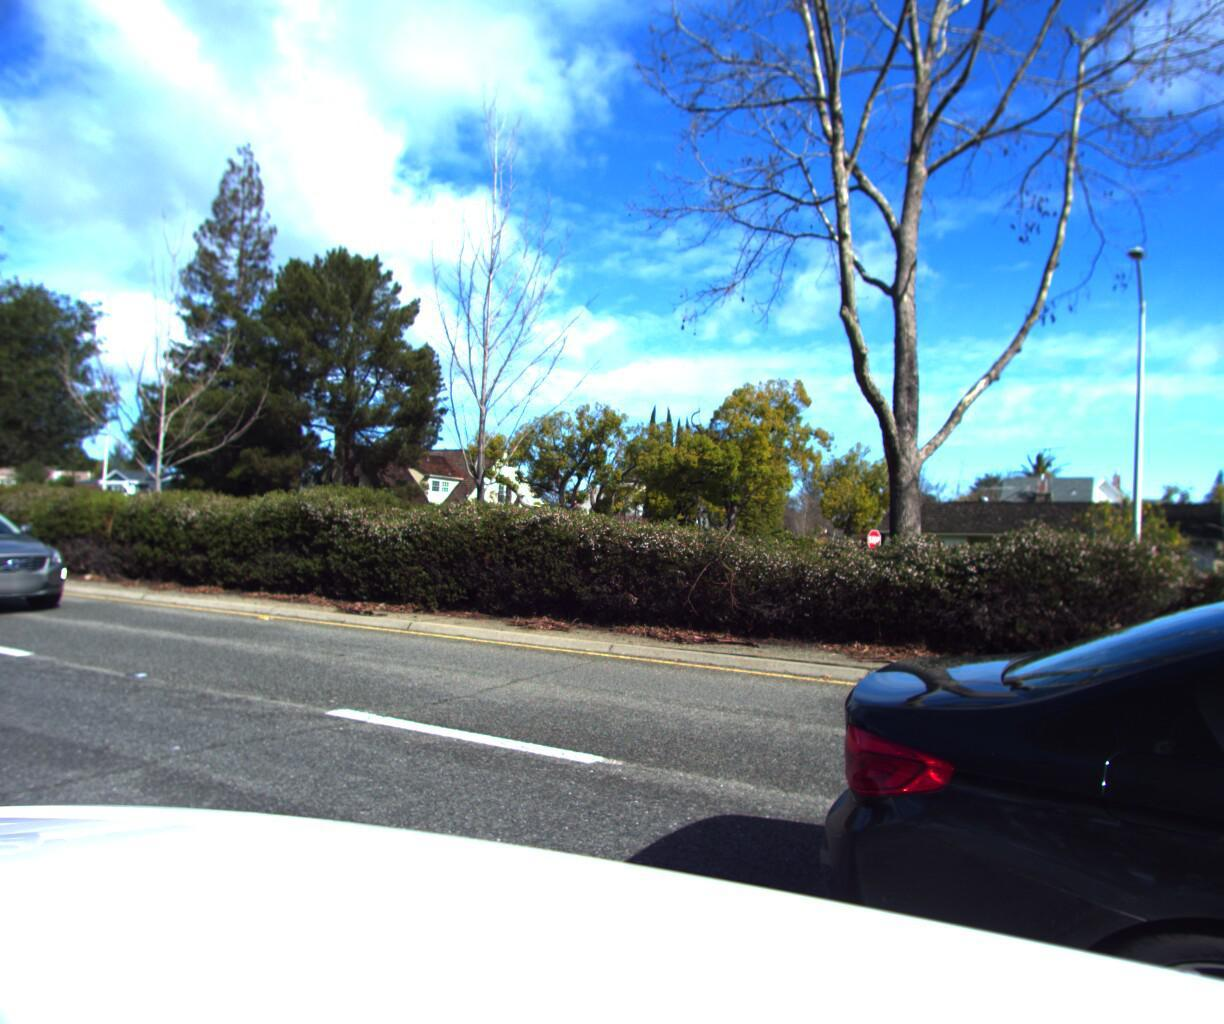car: (709, 519, 1224, 1024), (0, 493, 91, 628)
